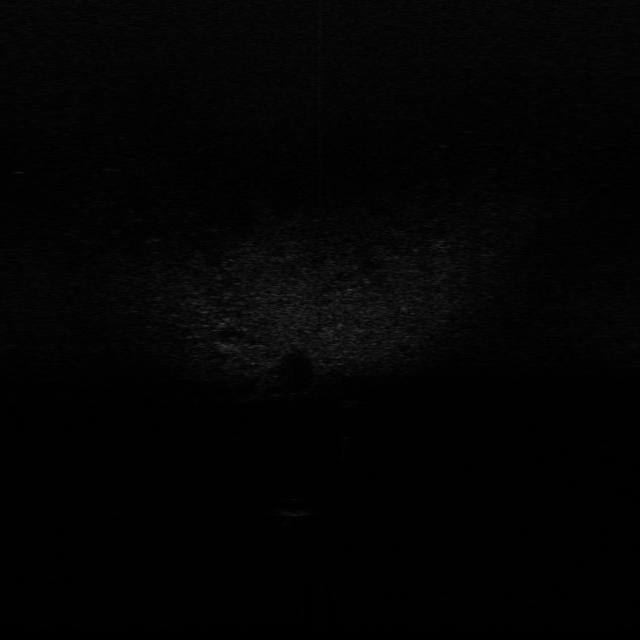ball: (270, 495, 318, 521)
cube: (337, 394, 364, 412)
